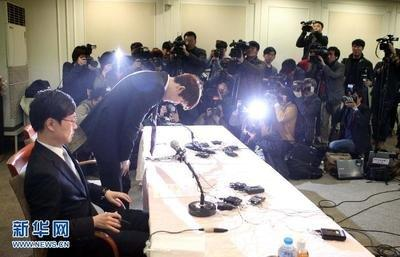bending: (23, 87, 121, 257), (87, 69, 203, 187)
